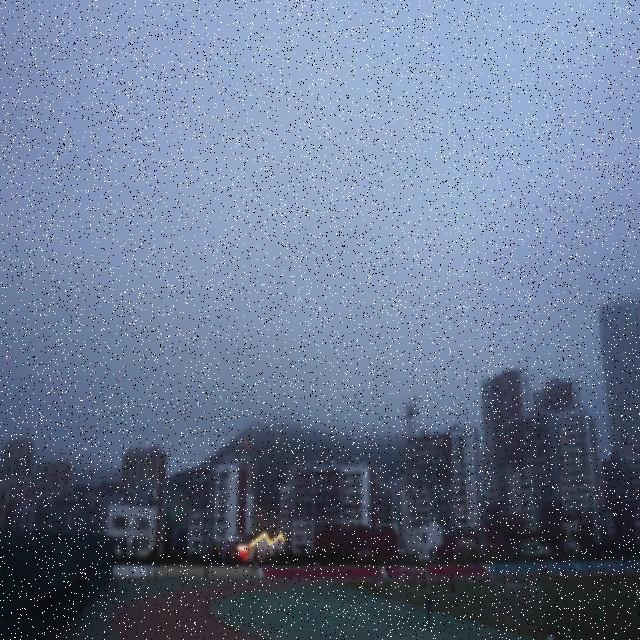UAV: (242, 440, 251, 450)
